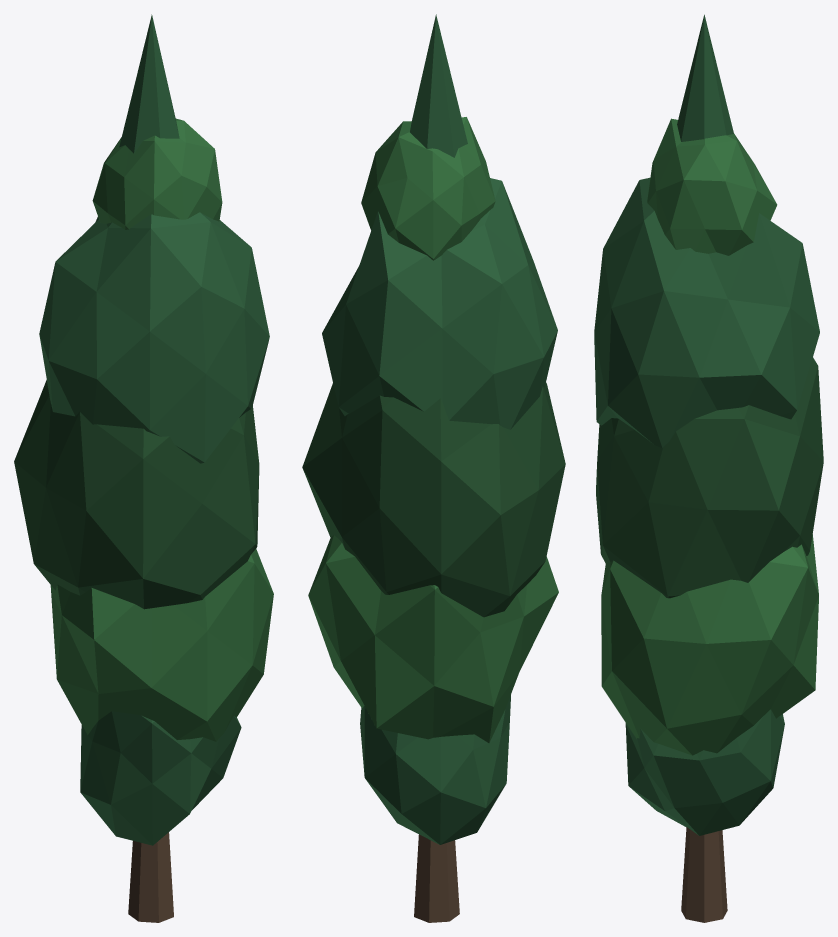
Rendered from TREE_09.obj.
3 renders of one model, left to right at view 1: azimuth 30°, elevation 25°; view 2: azimuth 150°, elevation 25°; view 3: azimuth 270°, elevation 25°, orthographic.
Parts seen in each view (by area): view 1: foliage, trunk; view 2: foliage, trunk; view 3: foliage, trunk.
Part boxes in pixels (<box>): foliage: <box>14,14,273,845</box>; trunk: <box>128,832,173,922</box>; foliage: <box>302,14,565,844</box>; trunk: <box>414,834,459,922</box>; foliage: <box>594,14,823,835</box>; trunk: <box>681,827,727,922</box>.
Bounding box in the file's own units: 2.43 × 10 × 2.32.
